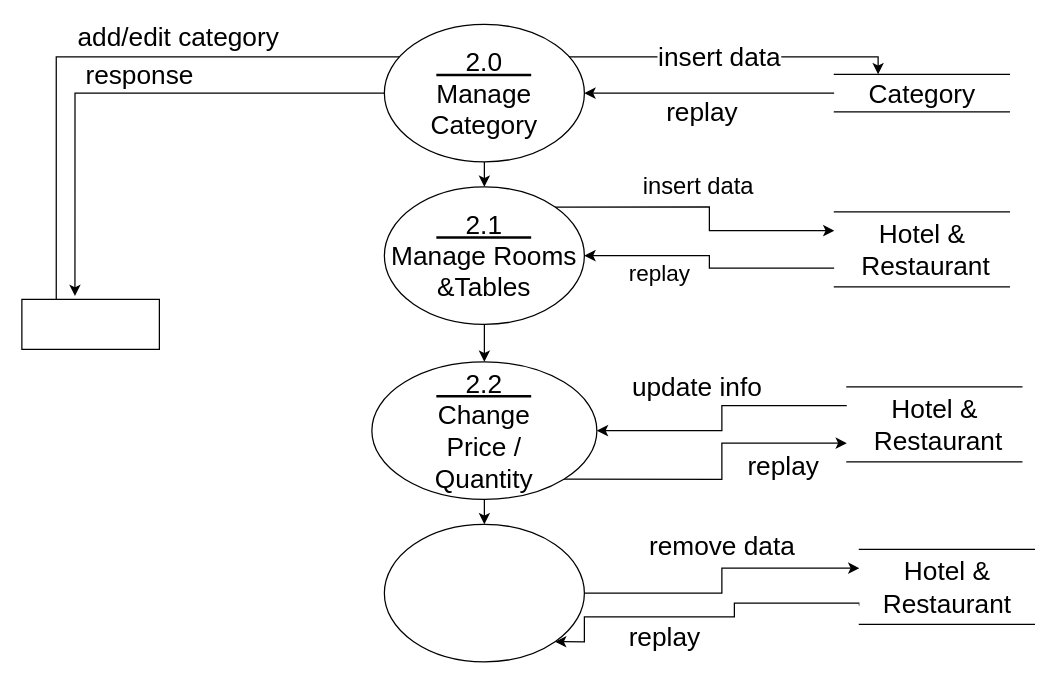
The diagram is 1056 pixels wide and 684 high, and some of its shapes have lost their labels. The shapes that lost their labels are listed below. From the top down, each one's centre as x and y in pixels, then its label:
At point (90, 323): "ADMIN".
At point (483, 592): "1.3 Delete Hotel & Restaurant".
